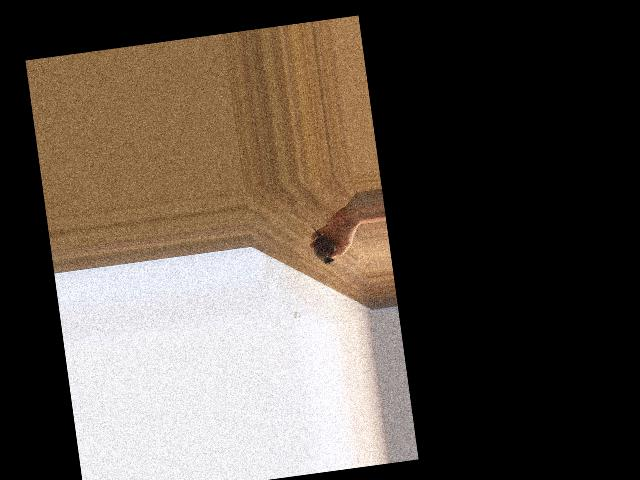beet: (310, 224, 337, 265)
